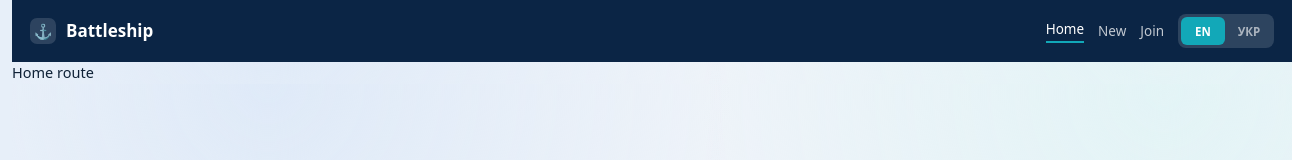
Test: AppBar › navigates immediately on nav click when there is no active game
What coordinates should you click on to do the following:
click the link "New"
I would click on:
 (1112, 31)
Its box is [1098,21,1126,41].
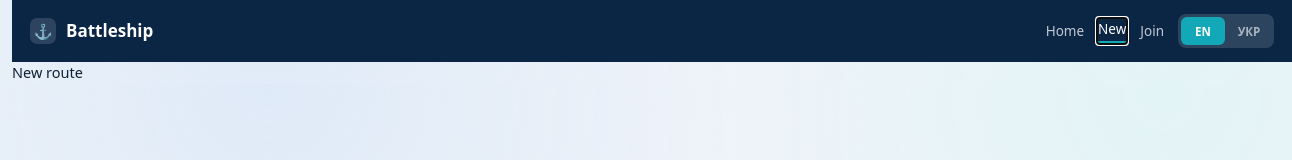
Result: the text "New route" is shown at [12,62,83,82]
